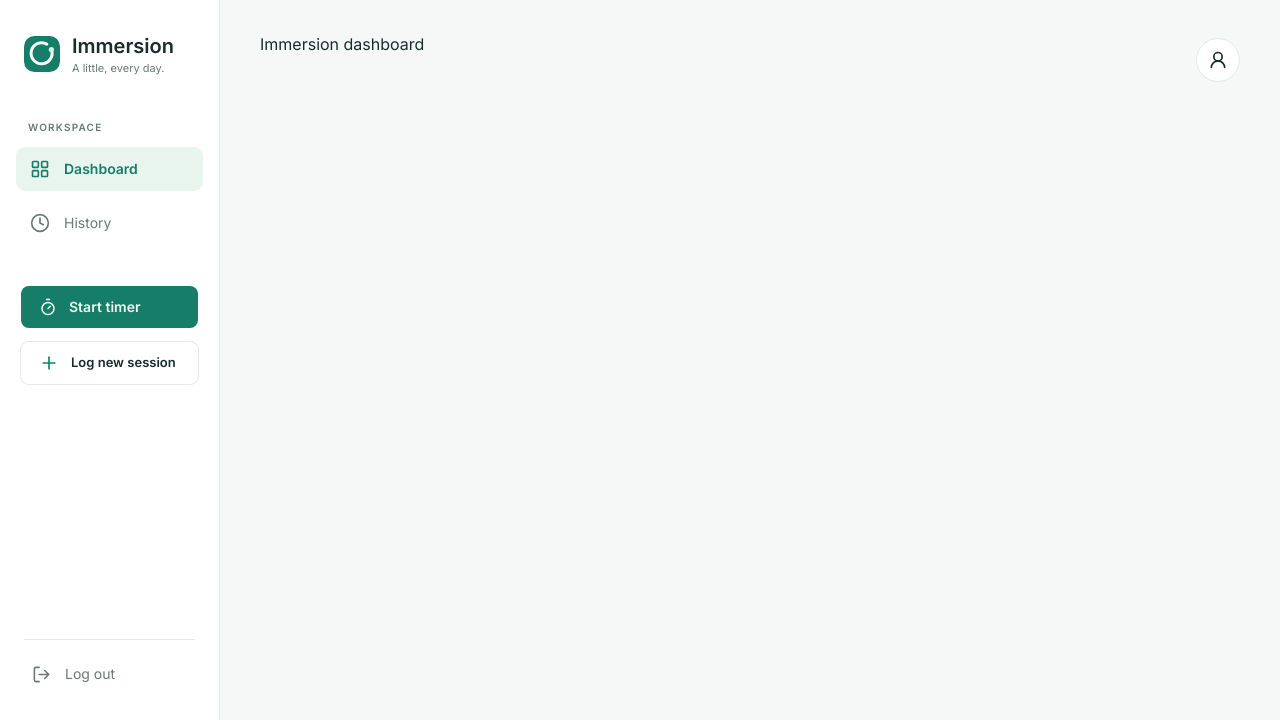
Test: workspace navigation › opens profile menu 1 with the signed-in email and working logout
Click the button named "Open profile menu": (1218, 60) [1196,38,1240,82]
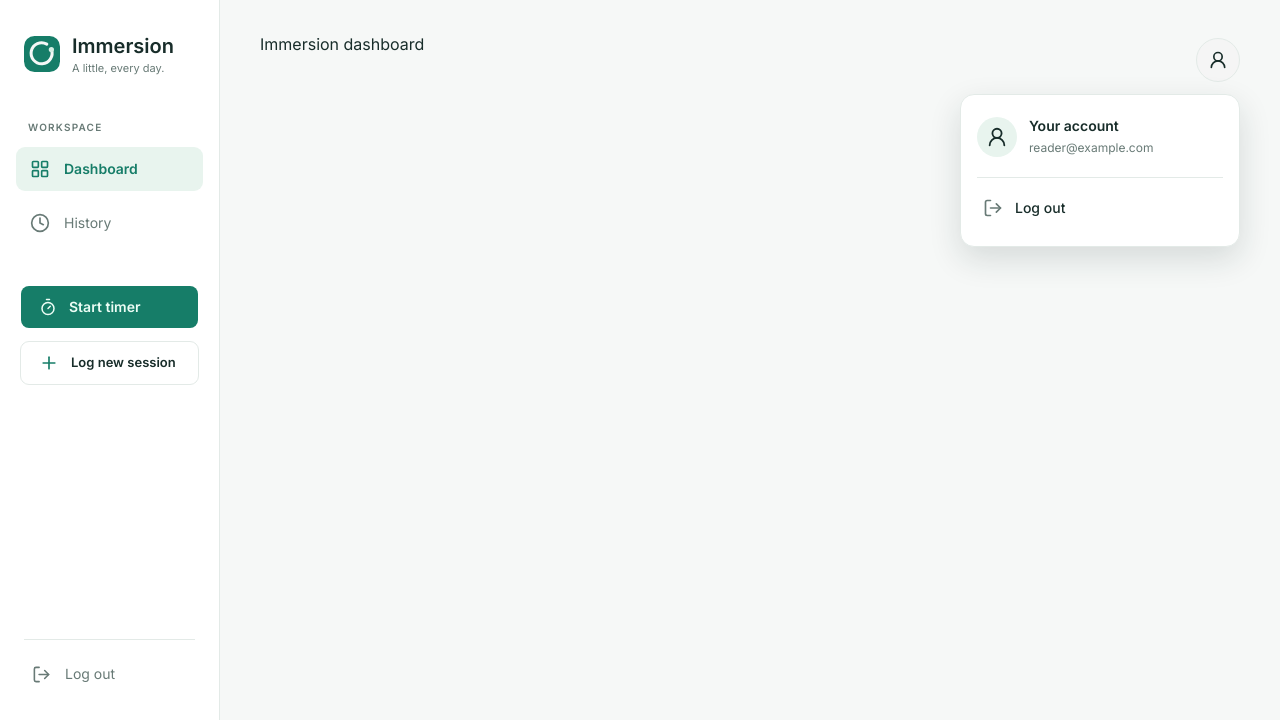
Result: the text "Your account" is shown at [1029,117,1119,134]
Result: the text "reader@example.com" is shown at [1029,137,1153,159]
Press Escape
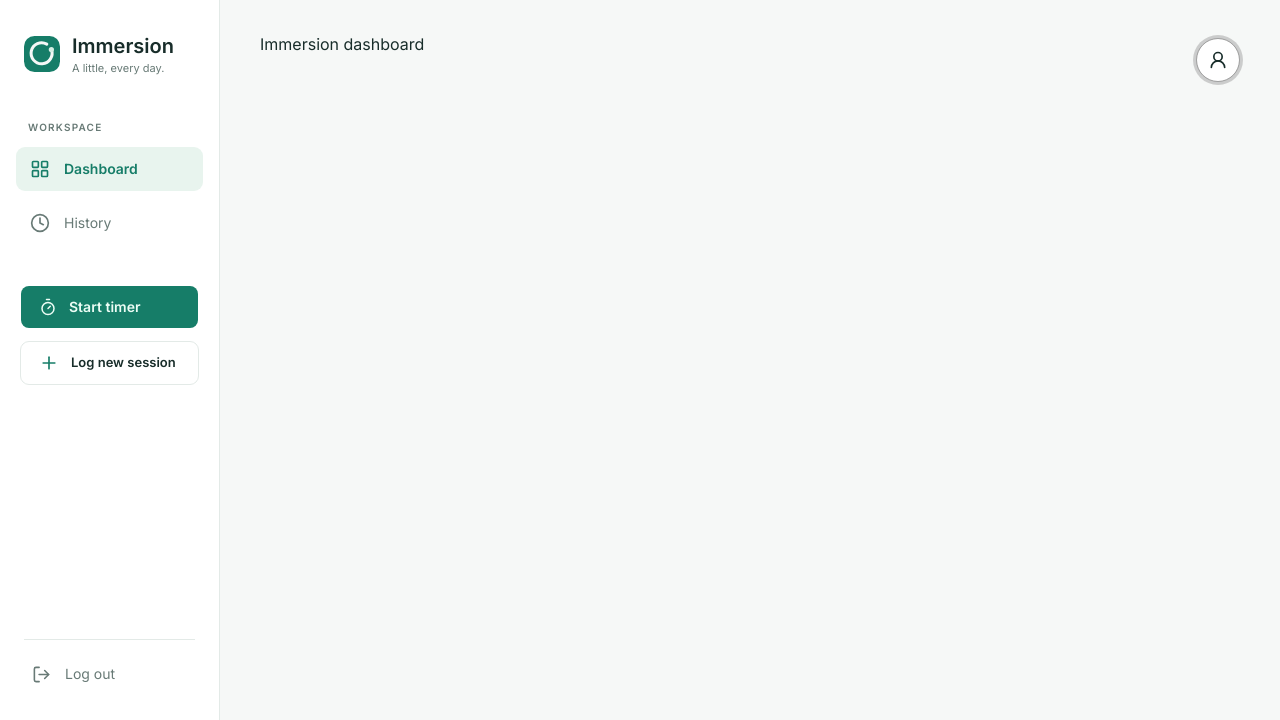
Result: the menu is gone
